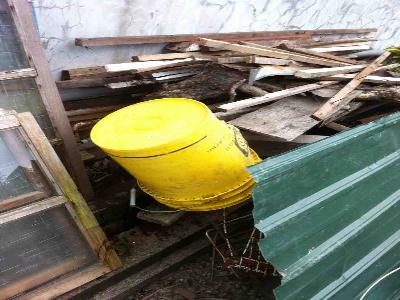bucket: (89, 96, 263, 215)
